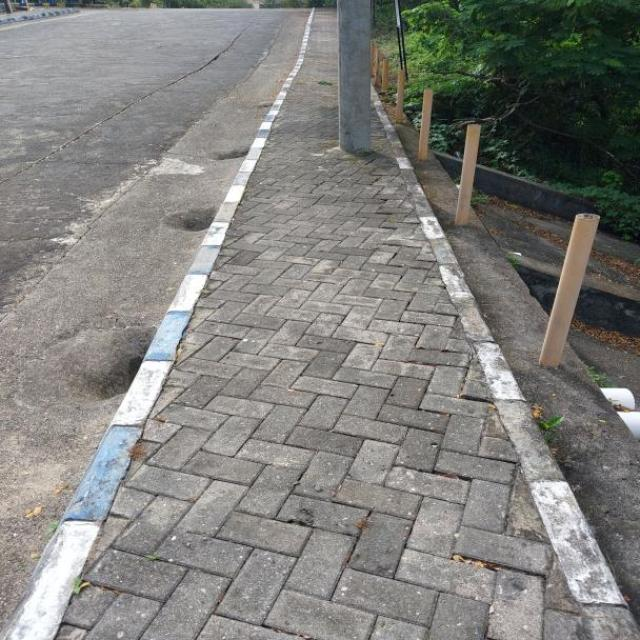barrier ahead at: (532, 206, 608, 382), (450, 116, 490, 232), (414, 83, 440, 162)
